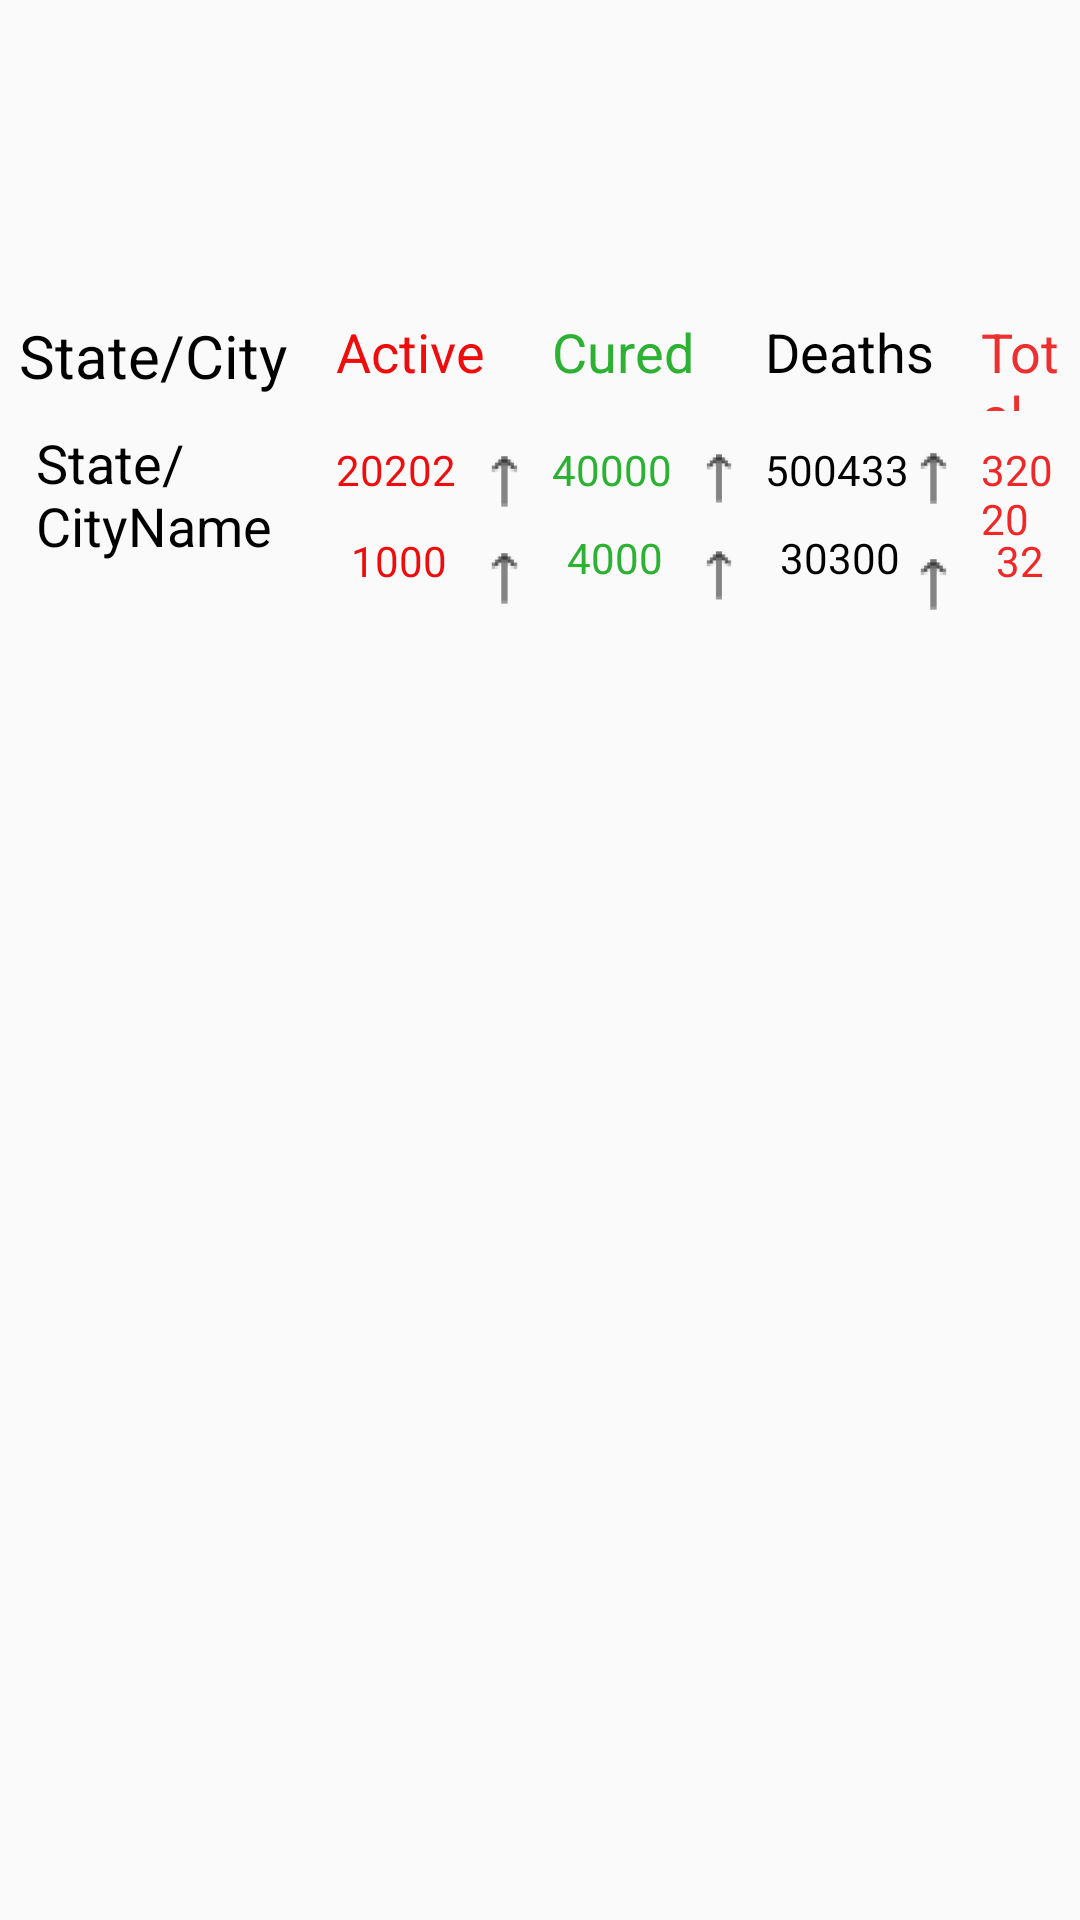

Icons on this 1080 x 1920 Android screen, each with its box as (left=x1, top=y1, right=x2, bottom=y2):
increase: (left=920, top=453, right=947, bottom=504), (left=706, top=454, right=731, bottom=503), (left=491, top=456, right=517, bottom=507), (left=707, top=551, right=731, bottom=600), (left=491, top=553, right=517, bottom=604), (left=920, top=559, right=947, bottom=610)
